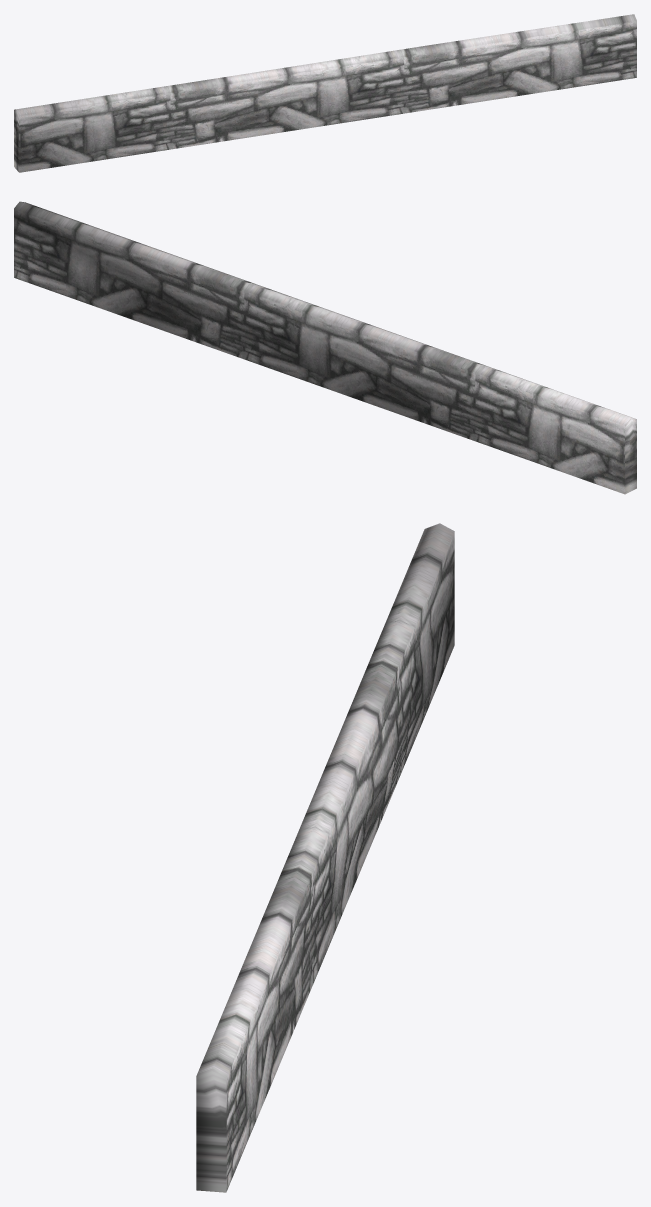
Rendered from HTOWN01_DAMN.fbx.
The picture shows the model from 3 angles, top to bottom: view 1: azimuth 30°, elevation 25°; view 2: azimuth 150°, elevation 25°; view 3: azimuth 270°, elevation 25°; orthographic projection. The views are drawn at different scales.
Parts seen in each view (by area): view 1: HTOWN01_DAMN; view 2: HTOWN01_DAMN; view 3: HTOWN01_DAMN.
Boxes of the visible parts, x1,y1,x2,y2 form: HTOWN01_DAMN: (14,14,636,172); HTOWN01_DAMN: (14,201,636,494); HTOWN01_DAMN: (196,523,454,1192).
Size of the model in its own units: 152693 by 15689 by 30334.
Materials: 1 (1 with a texture image).
